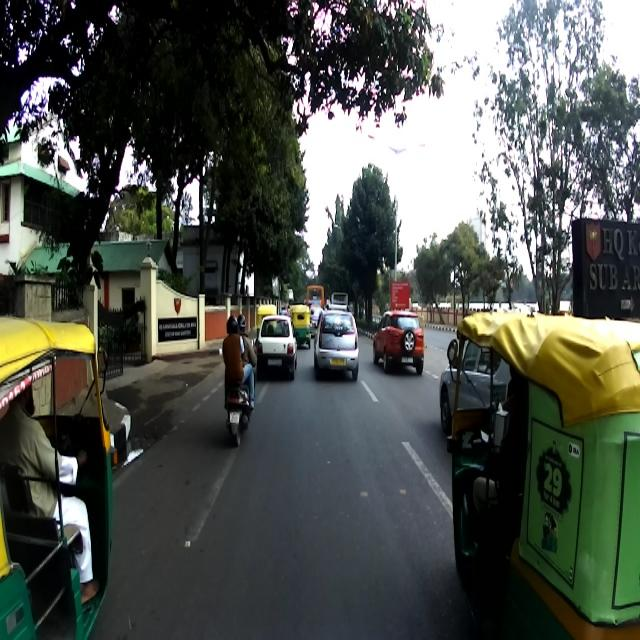autorickshaw: (446, 308, 638, 638), (0, 313, 116, 639)
car: (311, 308, 358, 382), (372, 309, 424, 375), (255, 314, 298, 381)
scooter: (224, 338, 260, 447)
